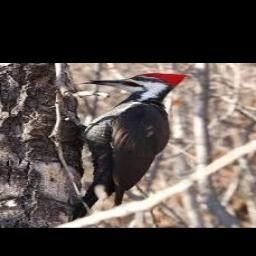Woodpecker: (76, 73, 187, 221)
